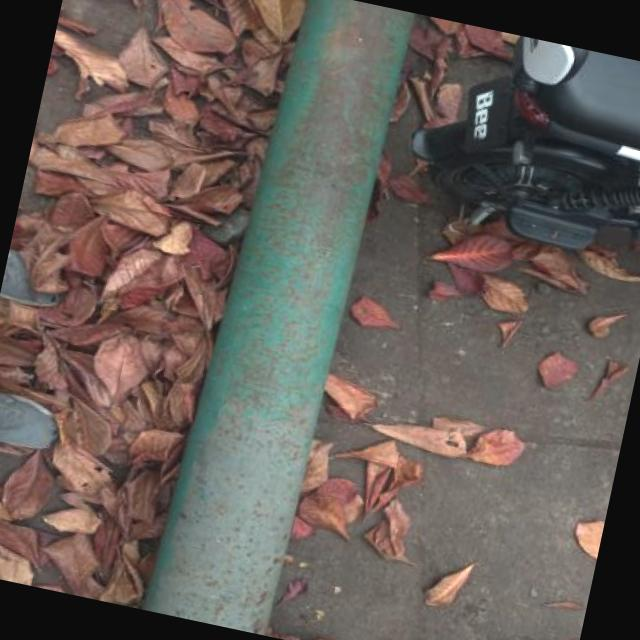gas: (135, 0, 414, 639)
